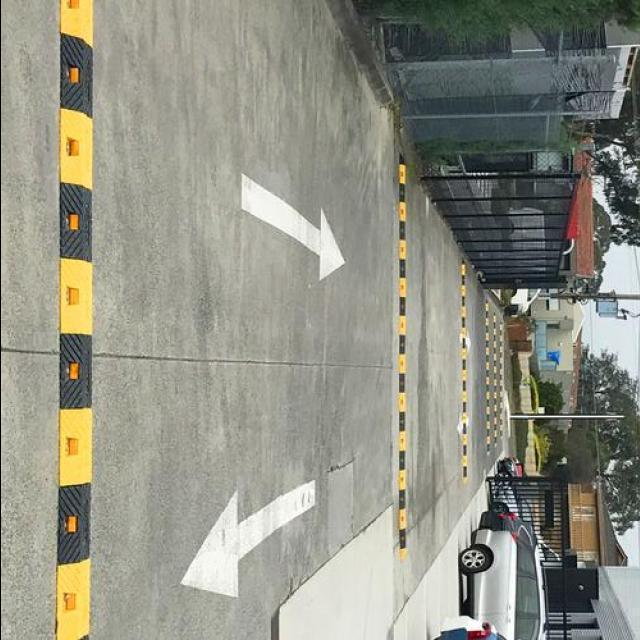speedbreaker: (39, 0, 115, 640), (384, 112, 416, 568), (456, 255, 471, 494)
